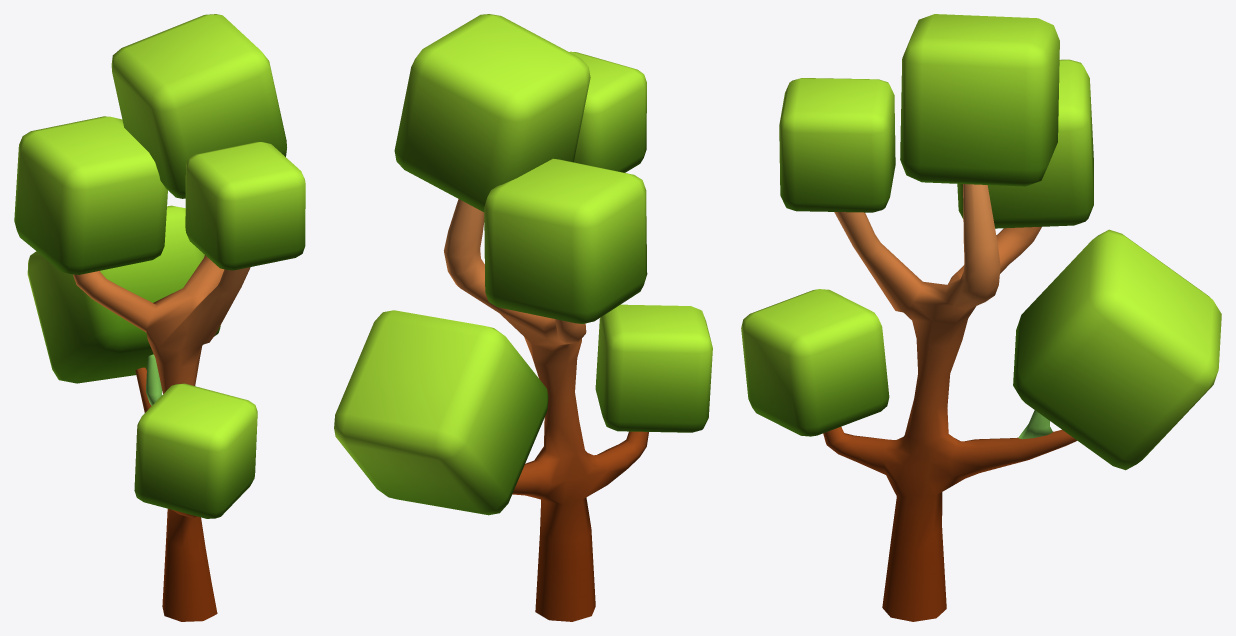
File: BigSqTree.fbx
3 views of the same model, side by side, from view 1: azimuth 30°, elevation 25°; view 2: azimuth 150°, elevation 25°; view 3: azimuth 270°, elevation 25° (orthographic). The views are drawn at different scales.
Parts seen in each view (by area): view 1: treevar1.3; view 2: treevar1.3; view 3: treevar1.3.
Part boxes in pixels (bbox=[...]): treevar1.3: bbox=[14, 14, 305, 621]; treevar1.3: bbox=[334, 14, 712, 621]; treevar1.3: bbox=[741, 14, 1221, 621].
Bounding box in the file's own units: 477 × 1174 × 846.
